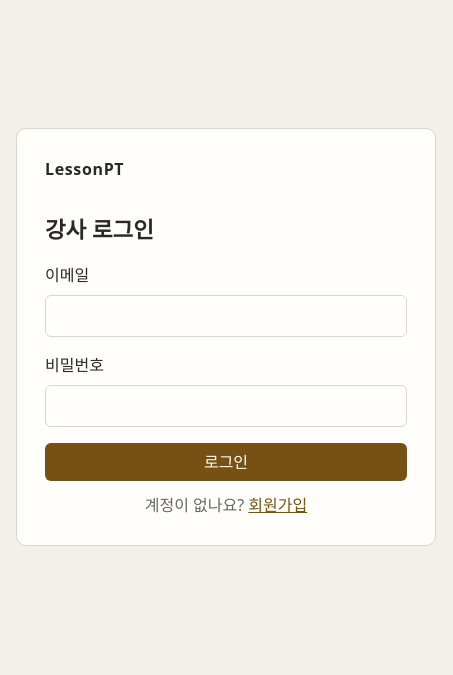
opens teacher signup from the login screen
What coordinates should you click on to do the following:
click the link "회원가입"
I would click on:
 (278, 505)
Its box is [248, 494, 307, 516].
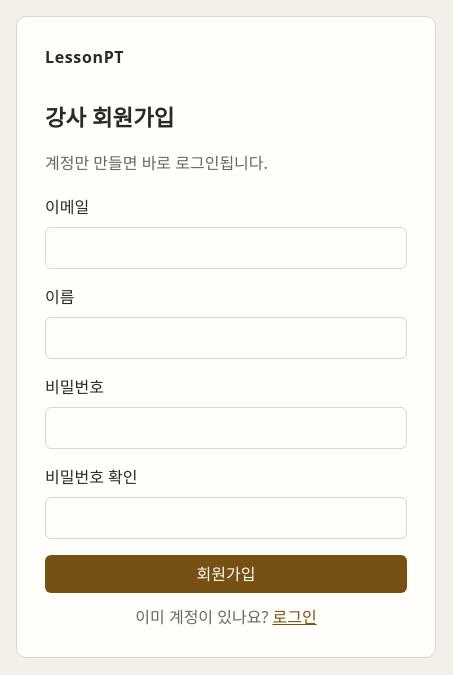
Now the heading "강사 회원가입" is shown, box [45, 102, 174, 133]
